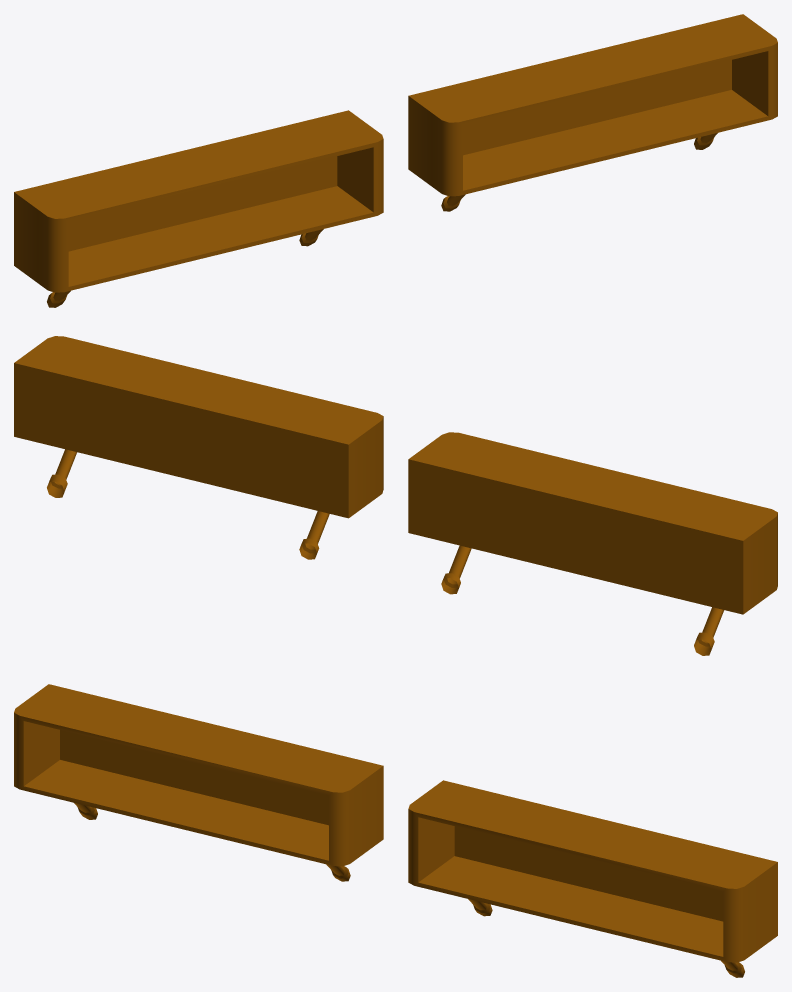
The model's file is Hea_Player_Shelf_Wall.fbx.
3 views of the same model, one above another, from view 1: azimuth 30°, elevation 25°; view 2: azimuth 150°, elevation 25°; view 3: azimuth 330°, elevation 25° (orthographic).
Visible parts, largest first — view 1: Shelf.001; view 2: Shelf.001; view 3: Shelf.001.
Boxes of the visible parts, box(x1,y1,x2,y2) form: Shelf.001: box(14, 14, 777, 307); Shelf.001: box(14, 336, 777, 655); Shelf.001: box(14, 684, 777, 977).
Bounding box in the file's own units: 436 × 71.65 × 41.15.
